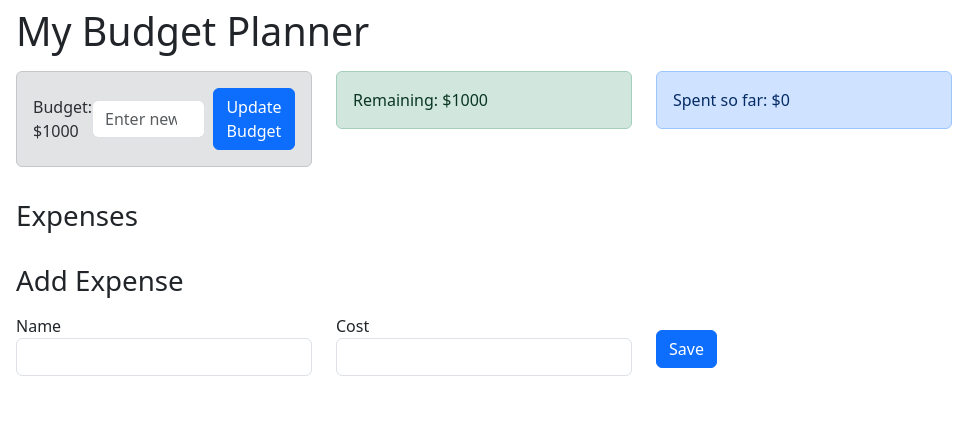
Scenario: Budget Tracking App › 1. Create Expense
This screenshot has width=969, height=441.
Type "Groceries" into the field labelled "Name" at (164, 357), box [16, 338, 312, 376]
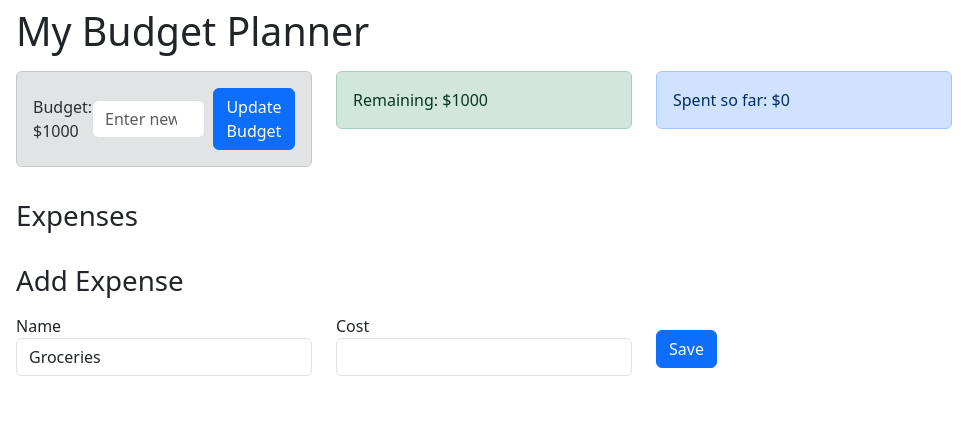
Type "50" into the field labelled "Cost" at (484, 357), box [336, 338, 632, 376]
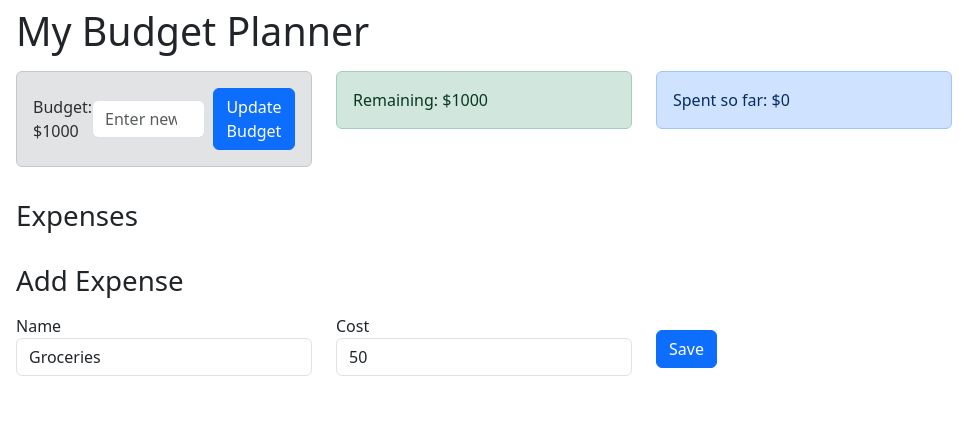
Click the button "Save" at (686, 349), box [656, 330, 717, 368]
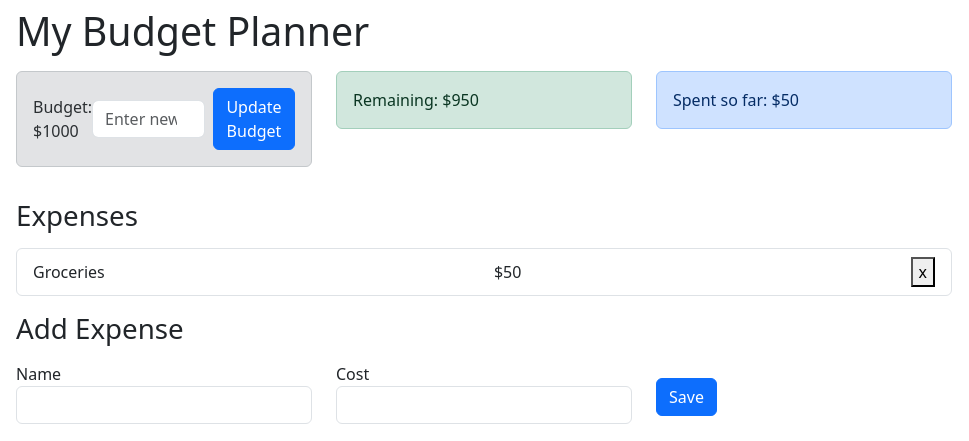
Result: the text "Groceries" is shown at [33, 260, 105, 284]
Result: the text "$50" is shown at [494, 260, 521, 284]
Result: the text "Spent so far: $50" is shown at [673, 89, 799, 111]
